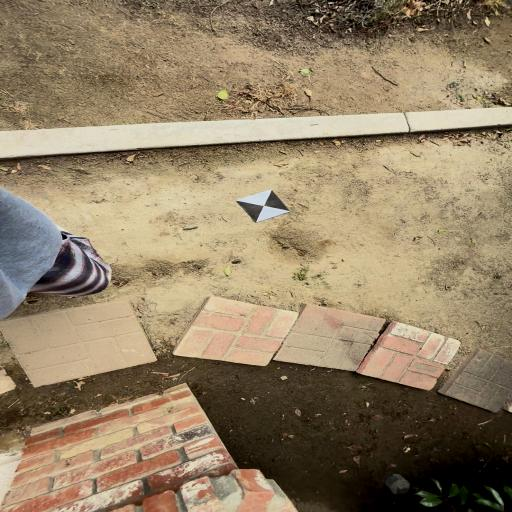target: (235, 189, 291, 223)
